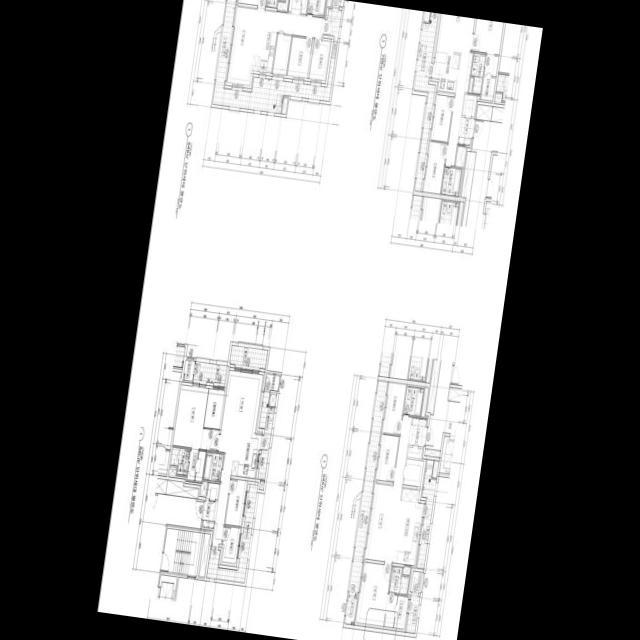background: (97, 0, 543, 640)
space_balconi: (212, 0, 342, 113), (348, 381, 387, 597), (206, 484, 258, 583), (414, 12, 438, 191), (417, 460, 436, 569), (257, 392, 275, 480), (229, 345, 268, 369), (193, 361, 227, 384), (406, 595, 420, 634)
space_bedroom: (173, 385, 219, 452), (356, 562, 391, 627), (423, 142, 447, 194), (383, 383, 406, 435), (472, 19, 503, 55), (376, 435, 399, 482), (225, 479, 247, 526), (431, 95, 453, 142), (287, 37, 312, 78), (309, 40, 330, 81), (221, 526, 240, 564), (238, 0, 266, 7)
space_dressroom: (384, 594, 408, 629), (480, 55, 498, 101), (187, 450, 206, 482)
space_front: (408, 418, 427, 447), (458, 117, 475, 146), (202, 500, 218, 529), (287, 0, 302, 15)
space_kitchen: (392, 488, 423, 566), (231, 431, 262, 478), (432, 50, 461, 93), (252, 30, 277, 73)
space_living_room: (212, 370, 263, 544), (227, 6, 324, 86), (365, 416, 412, 563), (436, 14, 475, 166)
space_multipurpose_space: (204, 389, 225, 429)
space_other: (273, 34, 291, 75), (165, 480, 198, 499), (403, 459, 424, 487), (198, 533, 211, 577), (462, 94, 477, 117), (410, 571, 423, 594), (264, 374, 279, 391), (206, 483, 219, 500), (421, 387, 428, 417), (455, 146, 465, 167), (407, 447, 422, 459), (424, 449, 440, 458), (277, 0, 288, 11), (432, 461, 439, 478), (200, 481, 208, 495), (281, 97, 287, 114), (301, 0, 308, 14), (269, 394, 277, 406), (332, 0, 343, 7), (468, 78, 473, 93), (168, 467, 176, 476), (423, 12, 430, 22), (402, 567, 410, 575), (259, 482, 264, 490), (327, 0, 331, 7)
space_outdoor_room: (344, 598, 357, 625), (183, 360, 195, 382)
space_staircase: (161, 528, 203, 576)
space_toilet: (403, 387, 424, 417), (441, 167, 462, 197), (471, 53, 486, 94), (203, 452, 223, 482), (170, 447, 190, 476), (389, 566, 409, 595), (307, 0, 326, 16), (266, 0, 277, 8)
